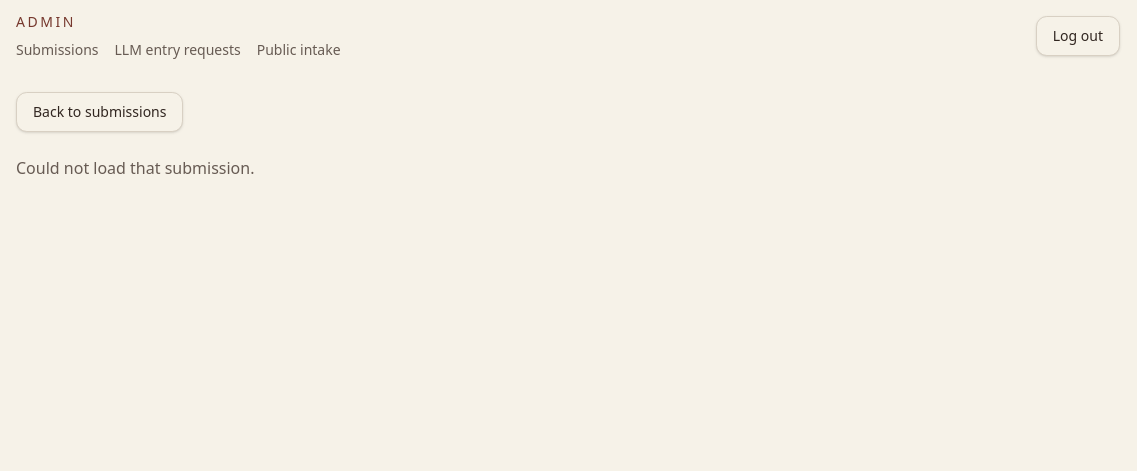
Test case: admin list navigation › shows Back to submissions when the submission cannot be loaded
Expected: the text "Could not load that submission." is shown, [16,157,254,179]
Click the button "Back to submissions" at (100,112), box [16,92,184,132]
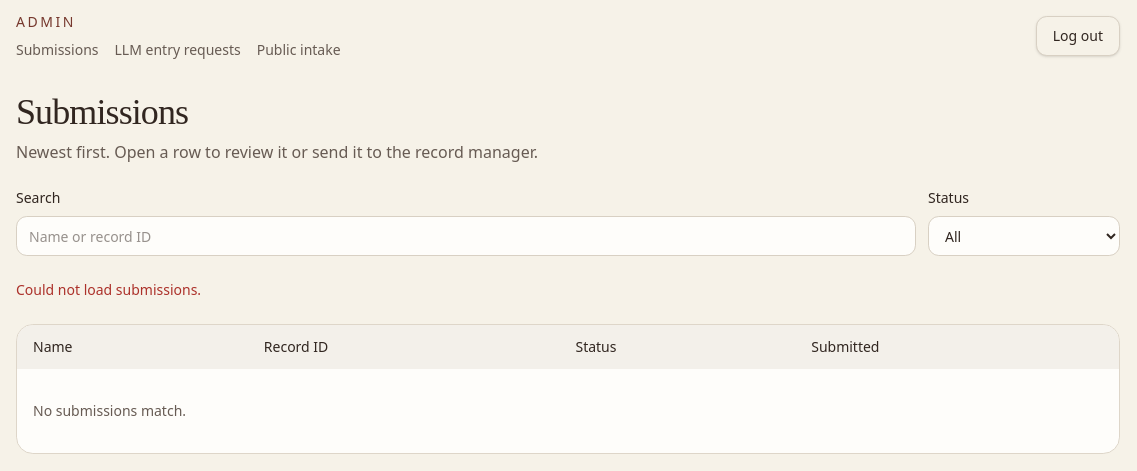
Expected: the heading "Submissions" is shown, [16,92,188,132]
